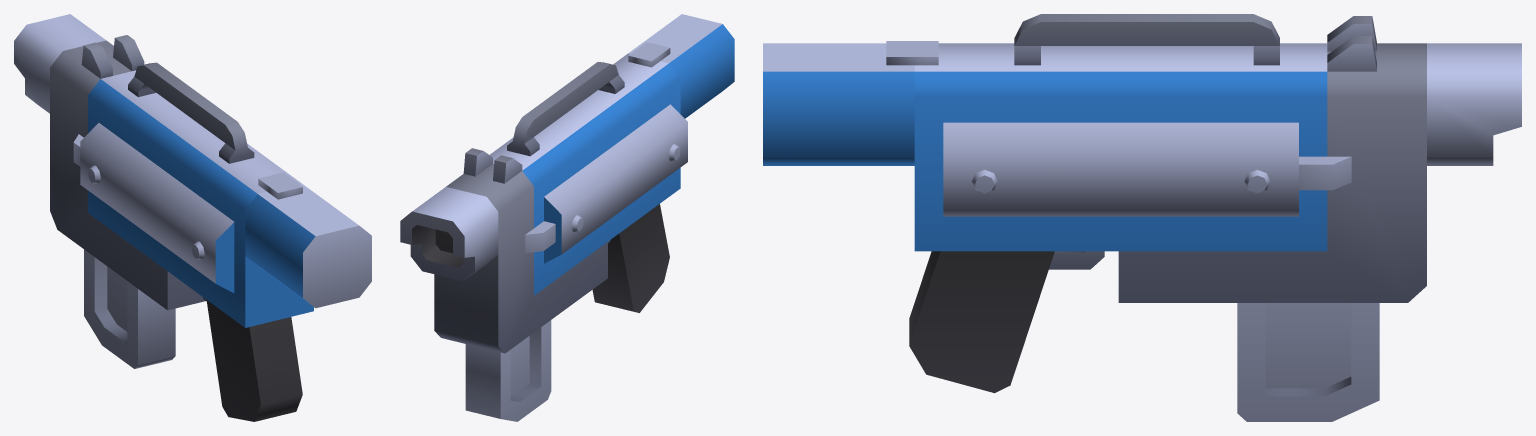
The model's file is cc0-blaster-lod0.glb.
3 renders of one model, left to right at view 1: azimuth 30°, elevation 25°; view 2: azimuth 150°, elevation 25°; view 3: azimuth 270°, elevation 25°, orthographic. The views are drawn at different scales.
Visible parts, largest first — view 1: part_0; view 2: part_0; view 3: part_0.
Boxes of the visible parts, <box> form: part_0: <box>14,14,371,421</box>; part_0: <box>400,14,734,421</box>; part_0: <box>763,14,1521,421</box>.
Bounding box in the file's own units: 0.1838 × 0.4559 × 0.8.
1 material, 1 textured.
